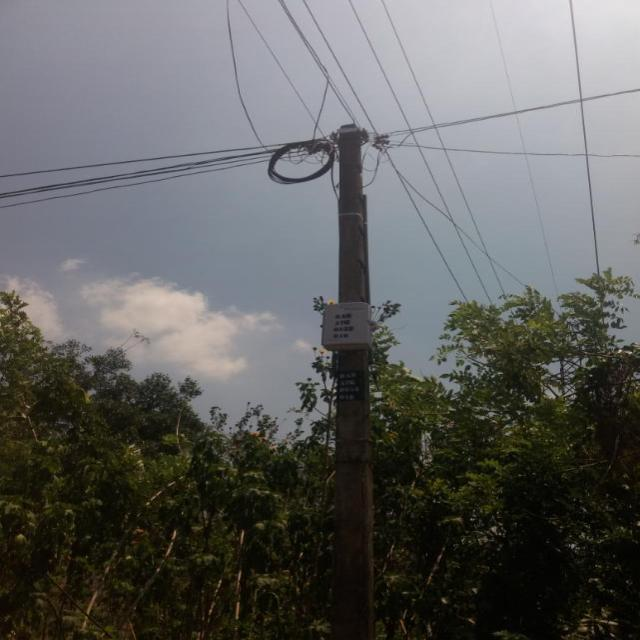light_pole: (323, 118, 397, 640)
